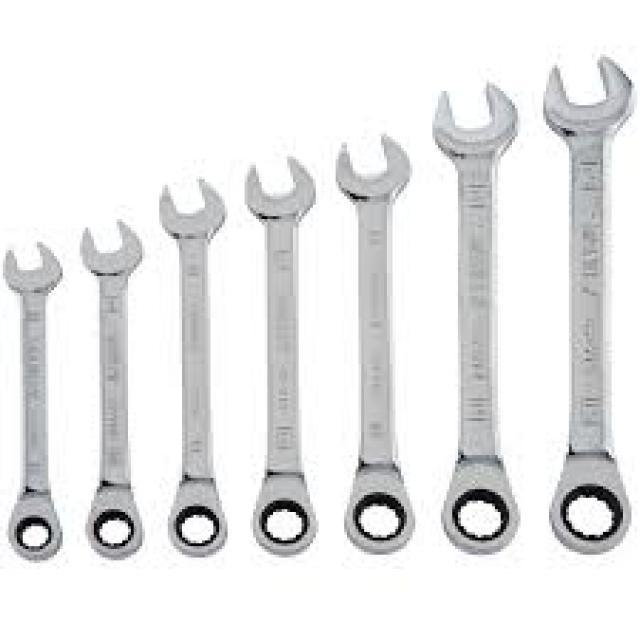wrench: (532, 48, 640, 560), (423, 76, 529, 565), (332, 127, 418, 563), (236, 147, 326, 563), (148, 162, 239, 566), (73, 211, 151, 570), (0, 233, 68, 566)
